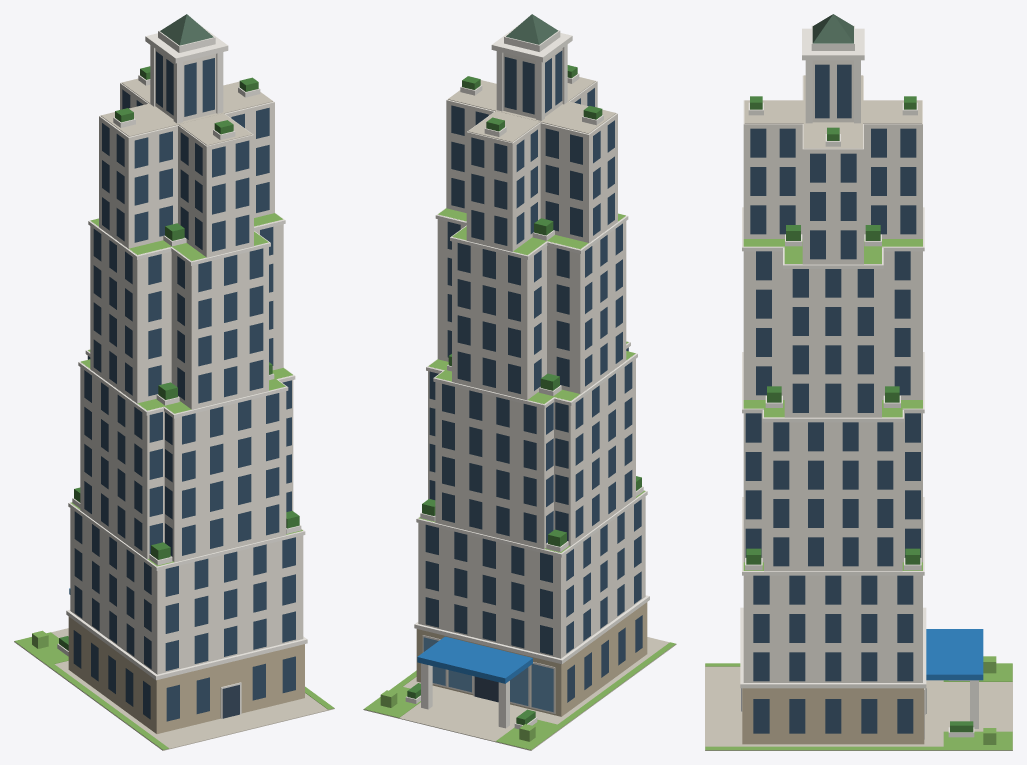
The picture shows the model from 3 angles, left to right: view 1: azimuth 30°, elevation 25°; view 2: azimuth 150°, elevation 25°; view 3: azimuth 270°, elevation 25°; orthographic projection. The views are drawn at different scales.
Visible parts, largest first — view 1: tower (×7), lobby_stone, plaza, roof_terrace (×2), ledge (×4), lawn (×2), lobby_cornice, window_glass (×2), lantern, lantern_cornice, lantern_roof, lantern_pier (+1 smaller); view 2: tower (×7), plaza, lobby_stone, roof_terrace (×2), canopy, ledge (×4), lawn (×3), storefront (×2), lobby_cornice, window_glass (×2), lantern, canopy_pier (×2) (+3 smaller); view 3: tower (×7), plaza, lobby_stone, window_glass (×7), roof_terrace (×2), ledge (×4), canopy, lawn (×2), lobby_cornice, lantern, lantern_cornice, lantern_roof.
Part boxes in pixels (left/top/right/bottom): tower (×7): left=70, top=82, right=303, bottom=674; lobby_stone: left=68, top=616, right=304, bottom=733; plaza: left=14, top=628, right=334, bottom=750; roof_terrace (×2): left=100, top=78, right=272, bottom=145; ledge (×4): left=68, top=213, right=305, bottom=570; lawn (×2): left=14, top=632, right=168, bottom=749; lobby_cornice: left=66, top=609, right=307, bottom=680; window_glass (×2): left=184, top=58, right=214, bottom=116; lantern: left=155, top=49, right=216, bottom=121; lantern_cornice: left=145, top=24, right=228, bottom=63; lantern_roof: left=160, top=14, right=213, bottom=45; lantern_pier: left=173, top=62, right=182, bottom=123; tower (×7): left=418, top=81, right=645, bottom=658; plaza: left=363, top=637, right=676, bottom=750; lobby_stone: left=416, top=602, right=647, bottom=716; roof_terrace (×2): left=448, top=77, right=616, bottom=142; canopy: left=417, top=636, right=532, bottom=683; ledge (×4): left=416, top=208, right=647, bottom=557; lawn (×3): left=364, top=642, right=675, bottom=749; storefront (×2): left=510, top=664, right=553, bottom=712; lobby_cornice: left=414, top=595, right=649, bottom=664; window_glass (×2): left=504, top=57, right=534, bottom=114; lantern: left=503, top=48, right=562, bottom=118; canopy_pier (×2): left=421, top=663, right=509, bottom=728; tower (×7): left=743, top=75, right=922, bottom=682; plaza: left=705, top=664, right=1012, bottom=750; lobby_stone: left=742, top=688, right=924, bottom=744; window_glass (×7): left=753, top=64, right=913, bottom=733; roof_terrace (×2): left=744, top=75, right=921, bottom=148; ledge (×4): left=742, top=207, right=924, bottom=575; canopy: left=926, top=629, right=983, bottom=680; lawn (×2): left=705, top=731, right=1012, bottom=750; lobby_cornice: left=740, top=607, right=926, bottom=688; lantern: left=812, top=60, right=853, bottom=122; lantern_cornice: left=802, top=28, right=864, bottom=60; lantern_roof: left=812, top=14, right=853, bottom=43.
Size of the model in its own units: 16 by 59.65 by 24.
